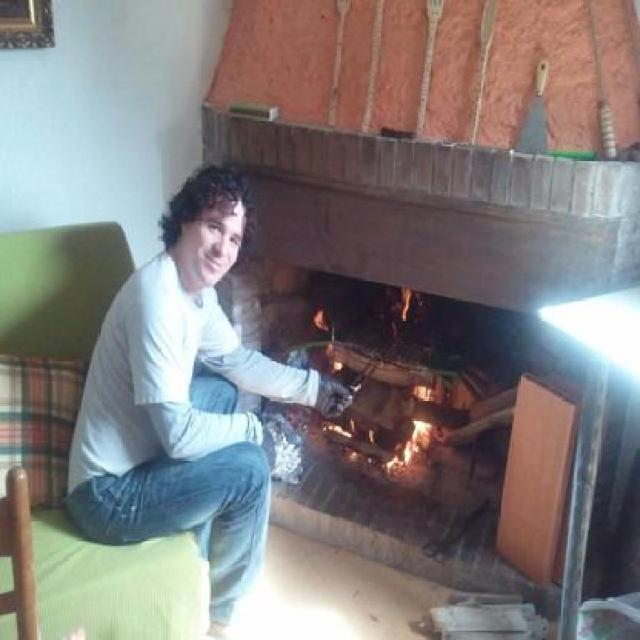Fire: (308, 289, 451, 488)
